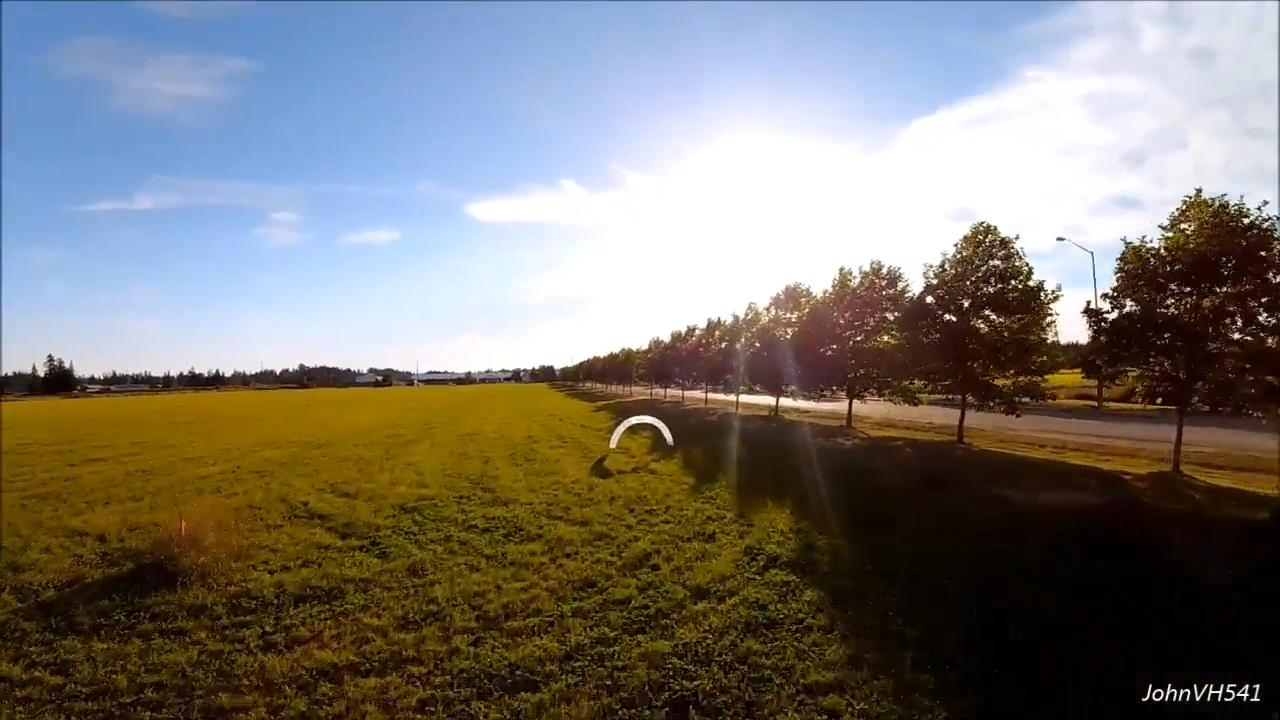gate: (607, 414, 677, 453)
